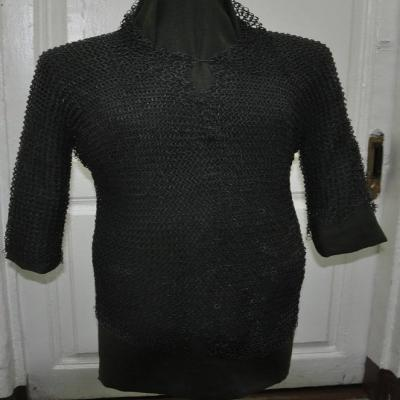weapon: (4, 0, 386, 400)
